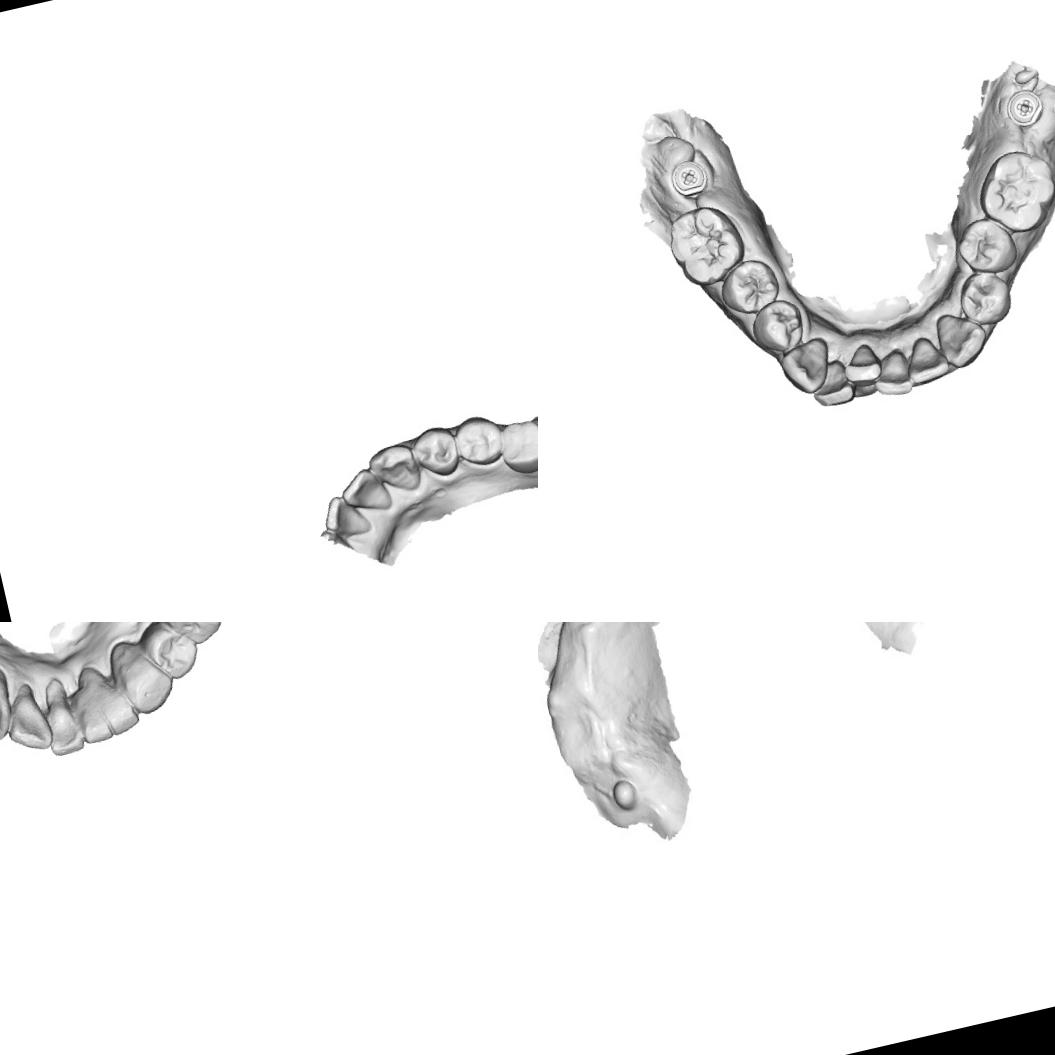canine: (102, 629, 180, 723), (773, 332, 841, 401), (930, 303, 994, 373), (362, 433, 424, 501), (0, 668, 22, 748)
implant_plus: (1002, 84, 1048, 134), (665, 154, 713, 200)
incisor: (28, 673, 93, 764), (0, 686, 60, 758), (335, 462, 396, 522), (864, 341, 920, 406), (835, 330, 894, 391), (804, 353, 862, 414), (92, 672, 143, 740), (898, 329, 955, 389), (318, 488, 374, 546), (70, 684, 119, 750)
molar: (660, 198, 754, 294), (967, 141, 1055, 242), (490, 408, 538, 487)
premolar: (948, 210, 1026, 282), (713, 251, 788, 322), (404, 412, 468, 486), (744, 293, 813, 361), (952, 263, 1018, 334), (137, 622, 206, 687), (446, 404, 509, 475), (155, 622, 233, 653)
